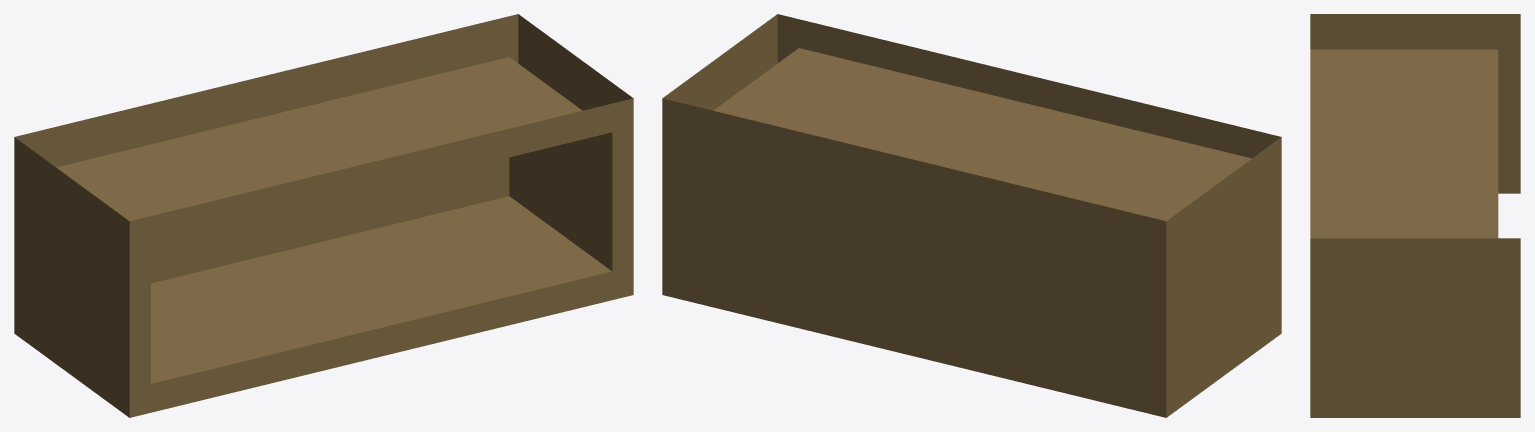
File: Itr_Wardrobe1_Body_01.FBX
3 renders of one model, left to right at view 1: azimuth 30°, elevation 25°; view 2: azimuth 150°, elevation 25°; view 3: azimuth 270°, elevation 25°, orthographic. The views are drawn at different scales.
Visible parts, largest first — view 1: Itr_Wardrobe1_Body_01; view 2: Itr_Wardrobe1_Body_01; view 3: Itr_Wardrobe1_Body_01.
Part boxes in pixels (x1,y1,x2,y2): Itr_Wardrobe1_Body_01: (14,14,633,417); Itr_Wardrobe1_Body_01: (662,14,1281,417); Itr_Wardrobe1_Body_01: (1310,14,1520,417).
Bounding box in the file's own units: 44.53 × 16.61 × 17.63.
